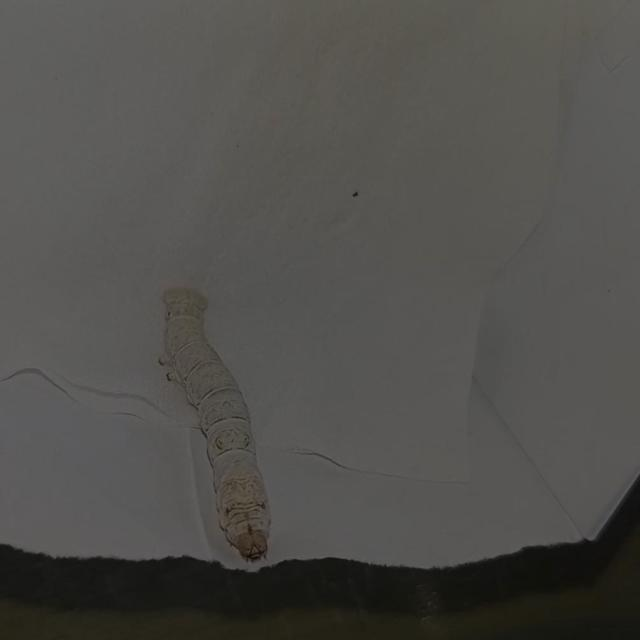Healthy: (147, 248, 317, 568)
